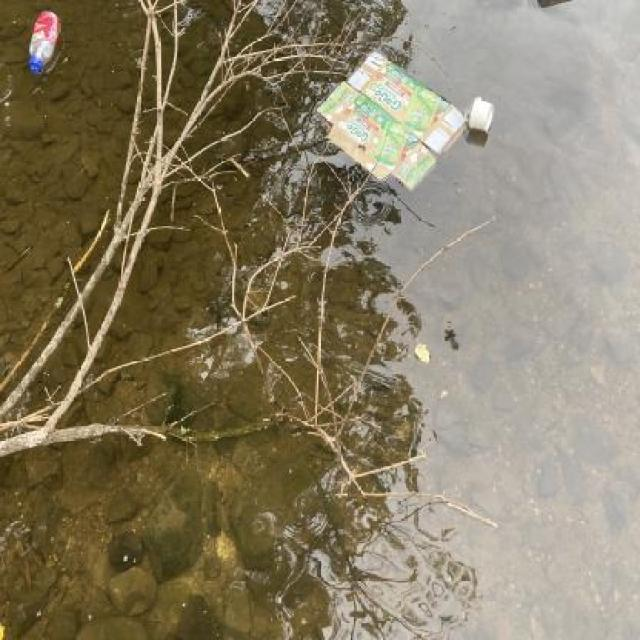Cardboard: (310, 45, 467, 190)
Plastic: (27, 9, 62, 77), (468, 94, 495, 133)
